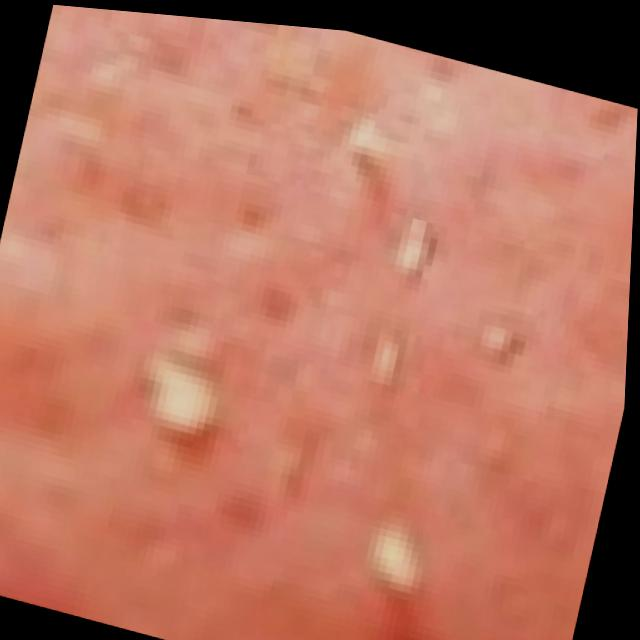whitehead: (81, 61, 628, 640)
